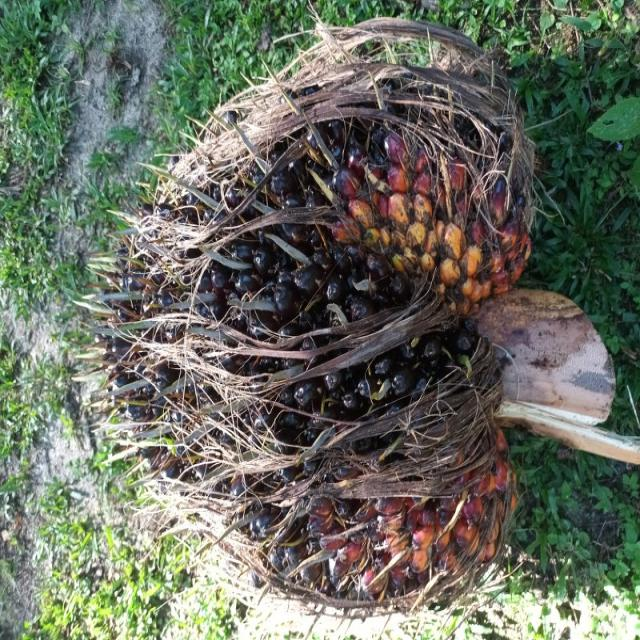fraksi 1: (9, 87, 473, 640)
